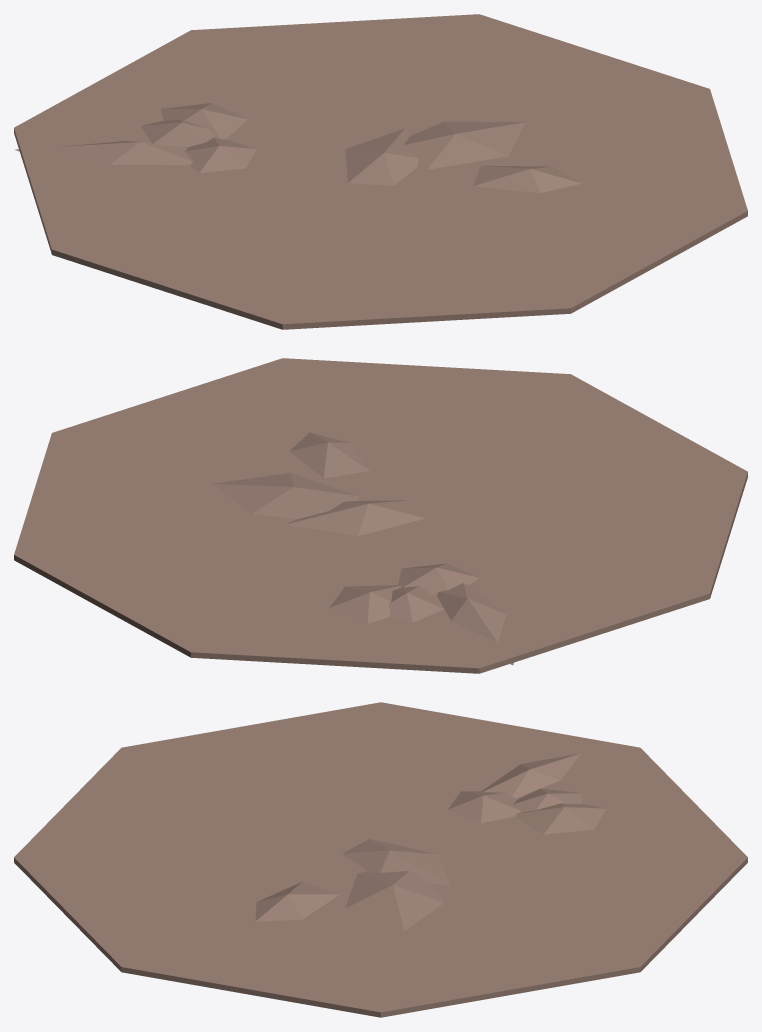
Rendered from burrow_stage1.glb.
3 renders of one model, top to bottom at view 1: azimuth 30°, elevation 25°; view 2: azimuth 150°, elevation 25°; view 3: azimuth 270°, elevation 25°, orthographic. The views are drawn at different scales.
Parts seen in each view (by area): view 1: mound; view 2: mound; view 3: mound.
Part boxes in pixels (bbox=[...]): mound: bbox=[14, 14, 747, 329]; mound: bbox=[14, 358, 747, 673]; mound: bbox=[14, 702, 747, 1017].
Size of the model in its own units: 0.5 by 0.012 by 0.5.
